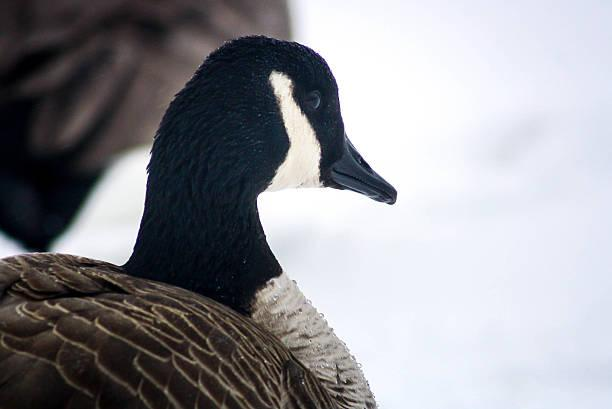Canadian-Goose: (0, 32, 397, 409)
